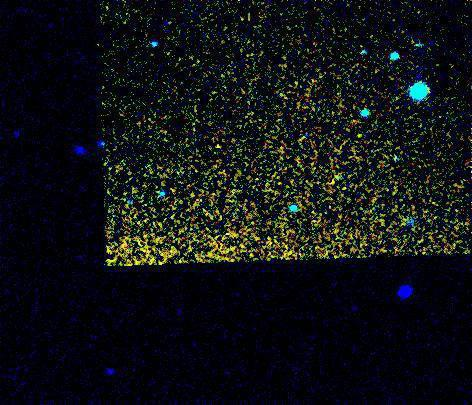star: (345, 119, 375, 149)
